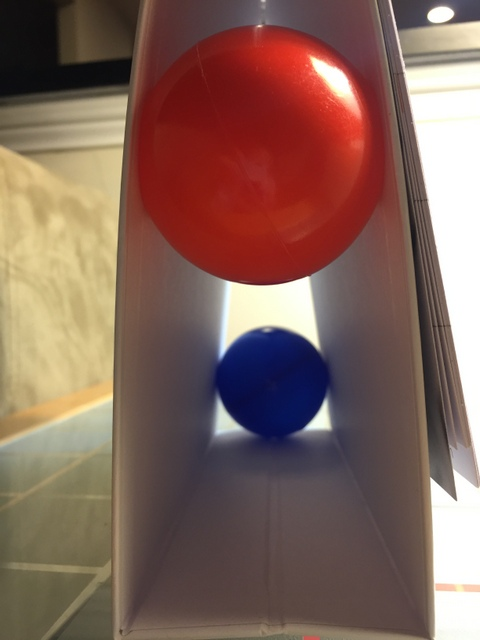Ball: (130, 25, 394, 281)
